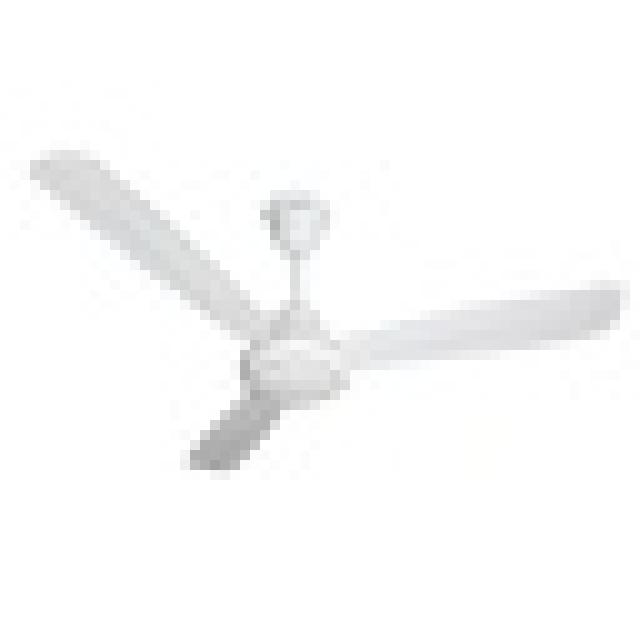Bulb: (14, 118, 618, 466)
